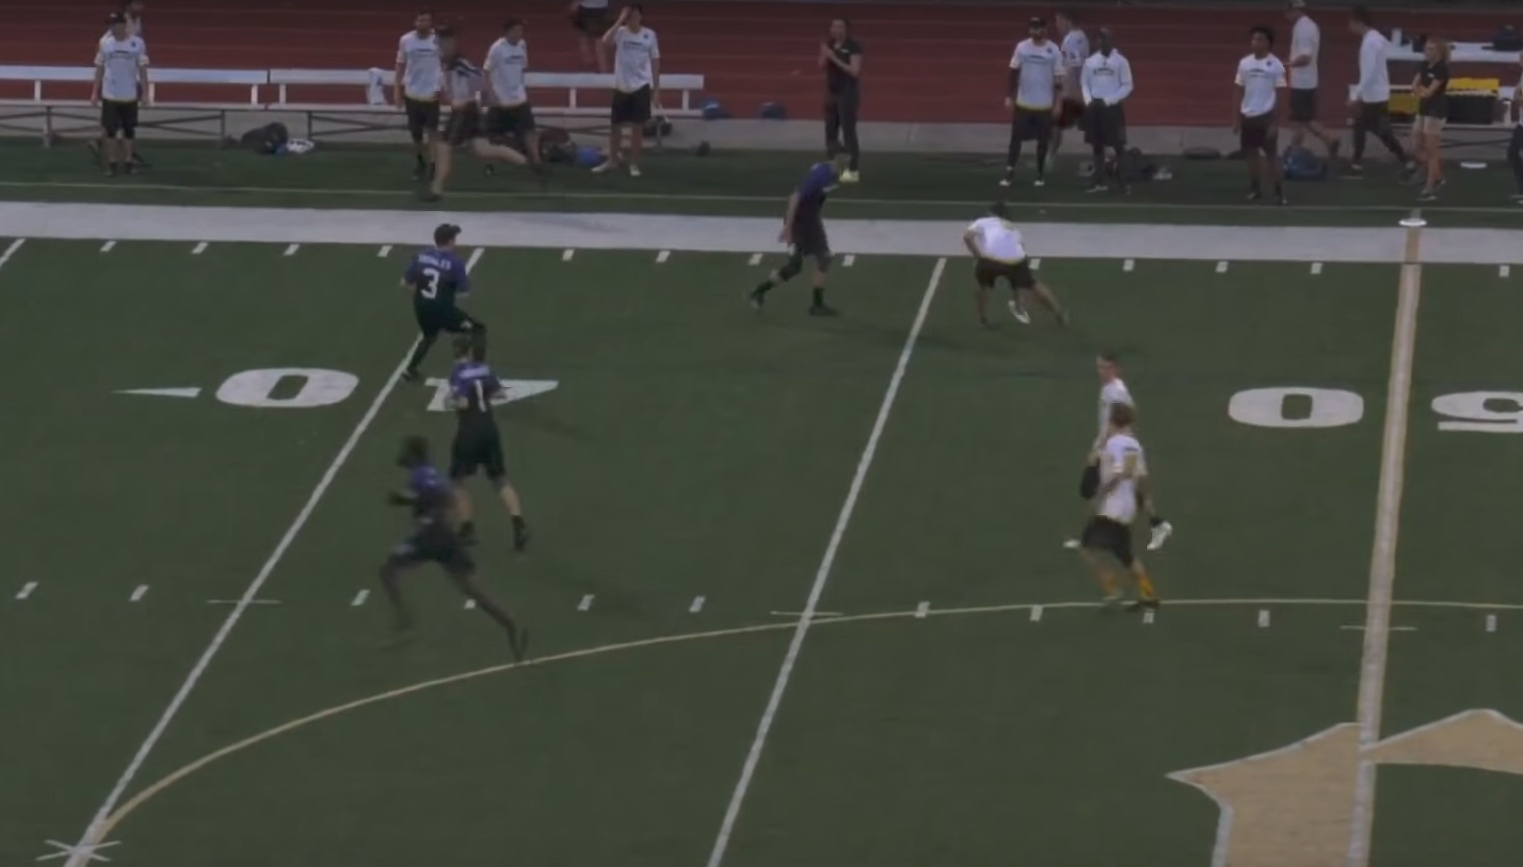frisbee: (1007, 299, 1031, 326), (1397, 216, 1429, 227), (1460, 160, 1487, 169)
